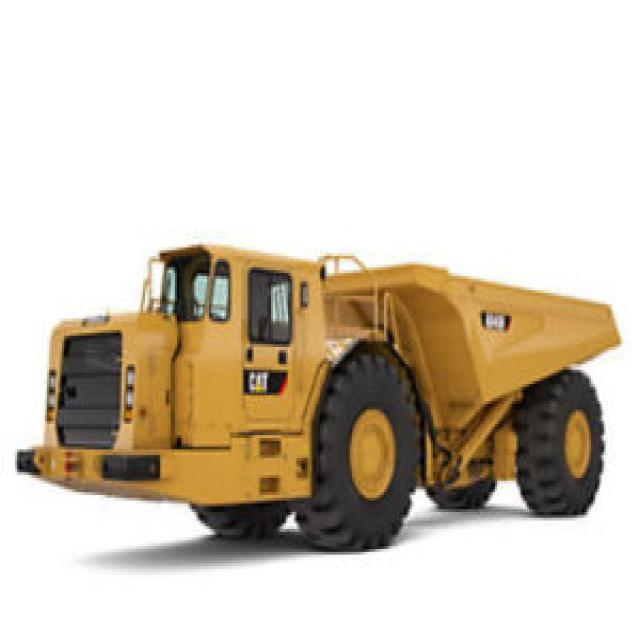dump_truck: (19, 176, 619, 555)
